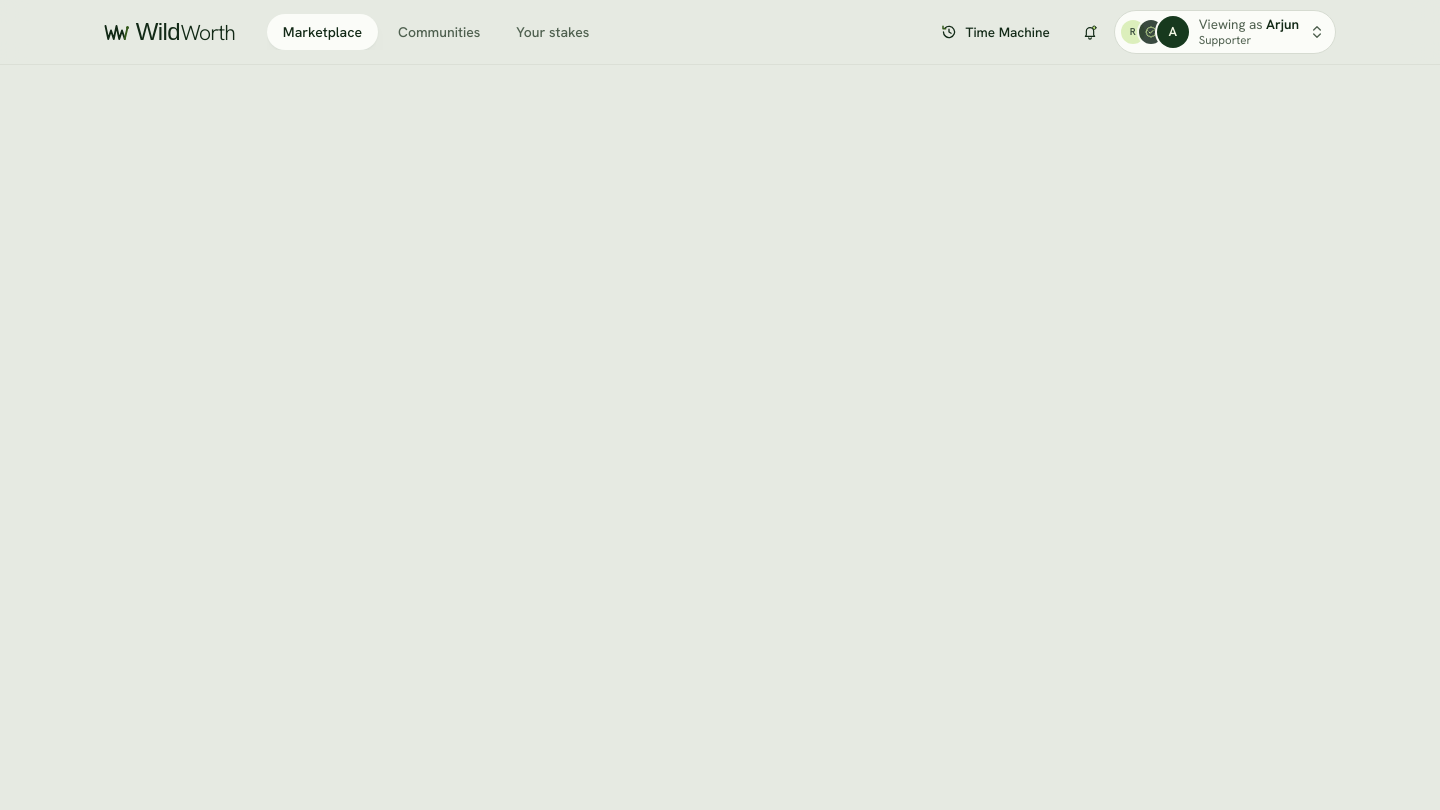
Test case: the persona menu, when something fails › says so when a switch fails, and stays where it was
Press the mouse on the button "Viewing as Arjun Supporter" at (1225, 32), box top-left (1114, 10), bottom-right (1336, 54)
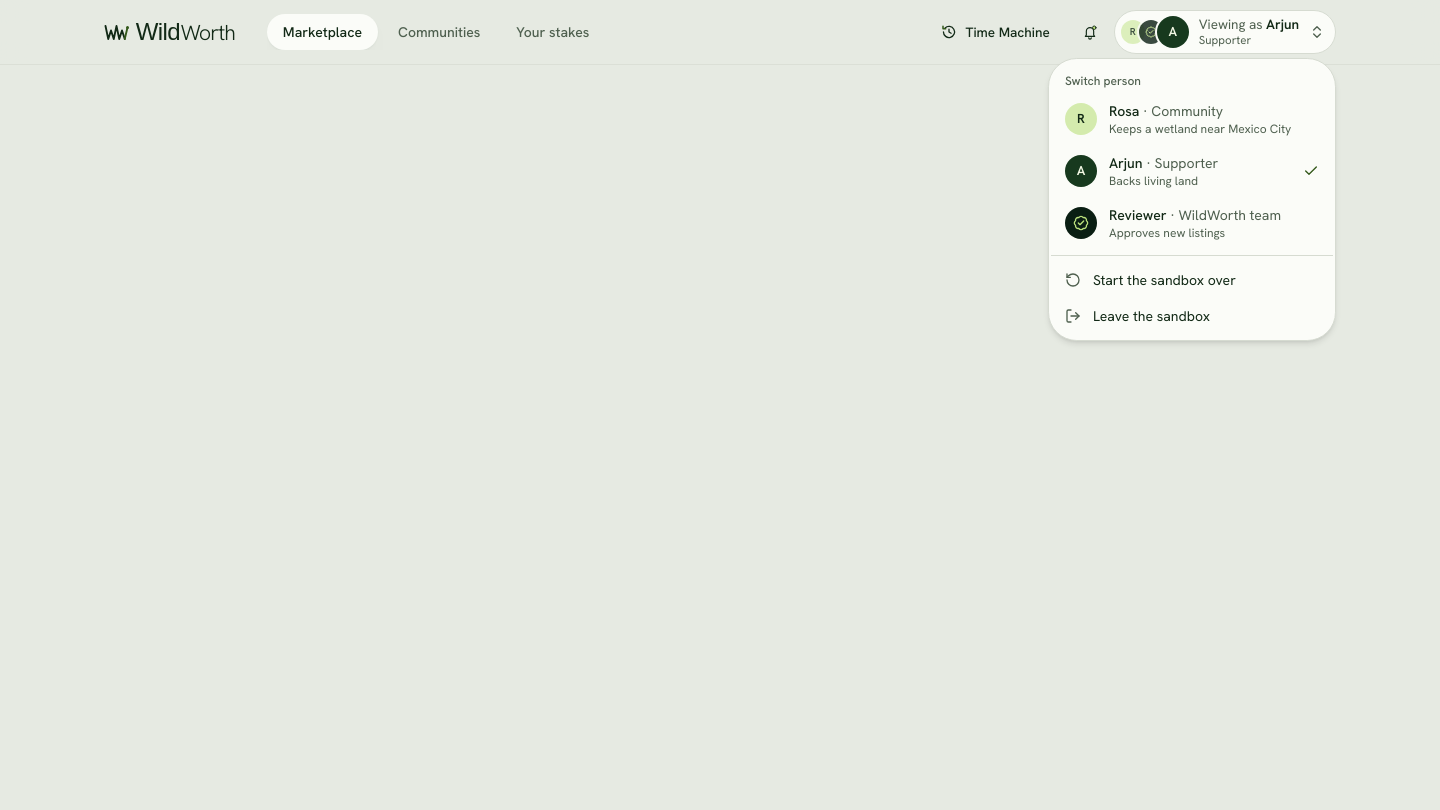
Click the menu item "Rosa · Community Keeps a wetland near Mexico City" at (1178, 120), box top-left (1065, 102), bottom-right (1291, 137)
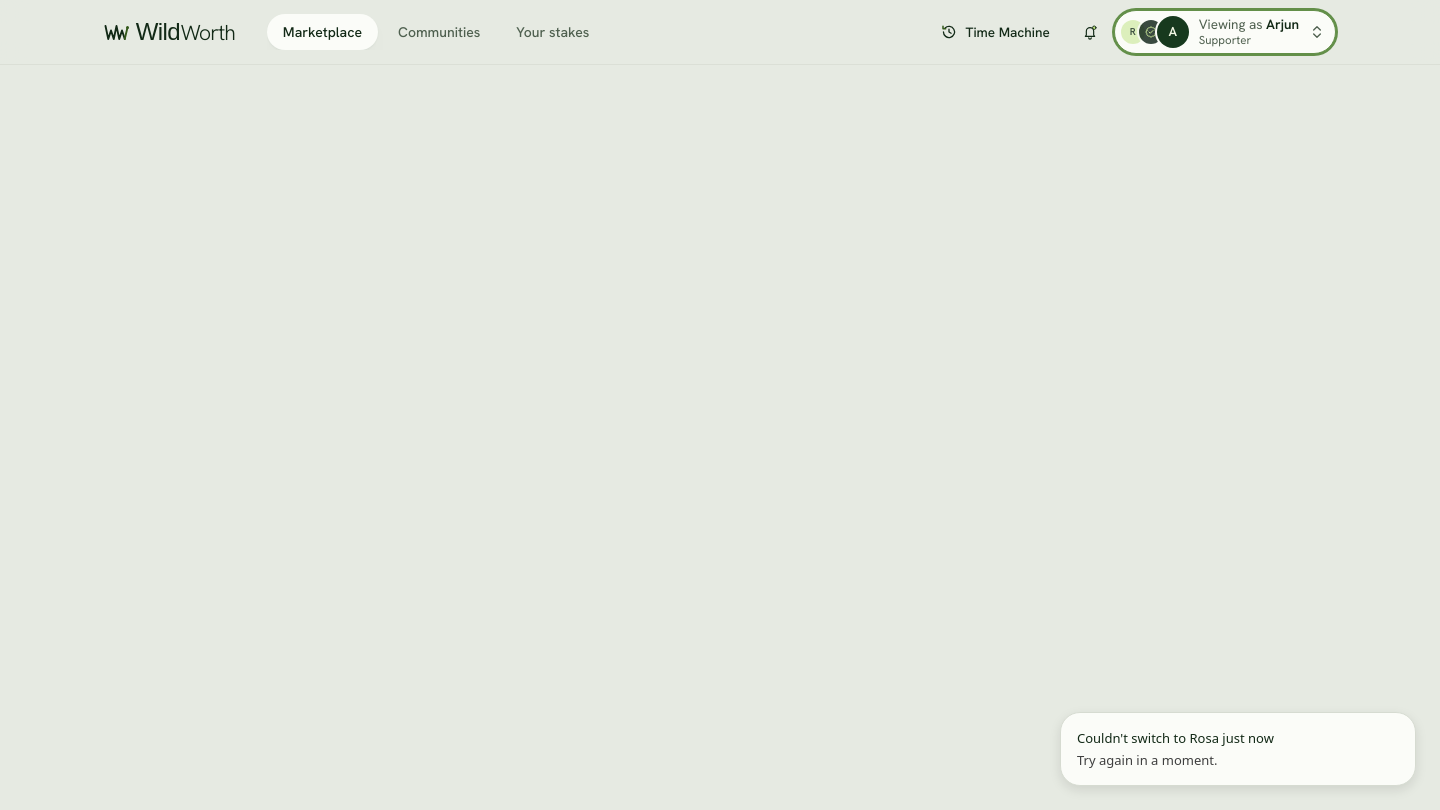
Expected: the text "Couldn't switch to Rosa just now" is shown, top-left (1077, 729), bottom-right (1274, 749)
